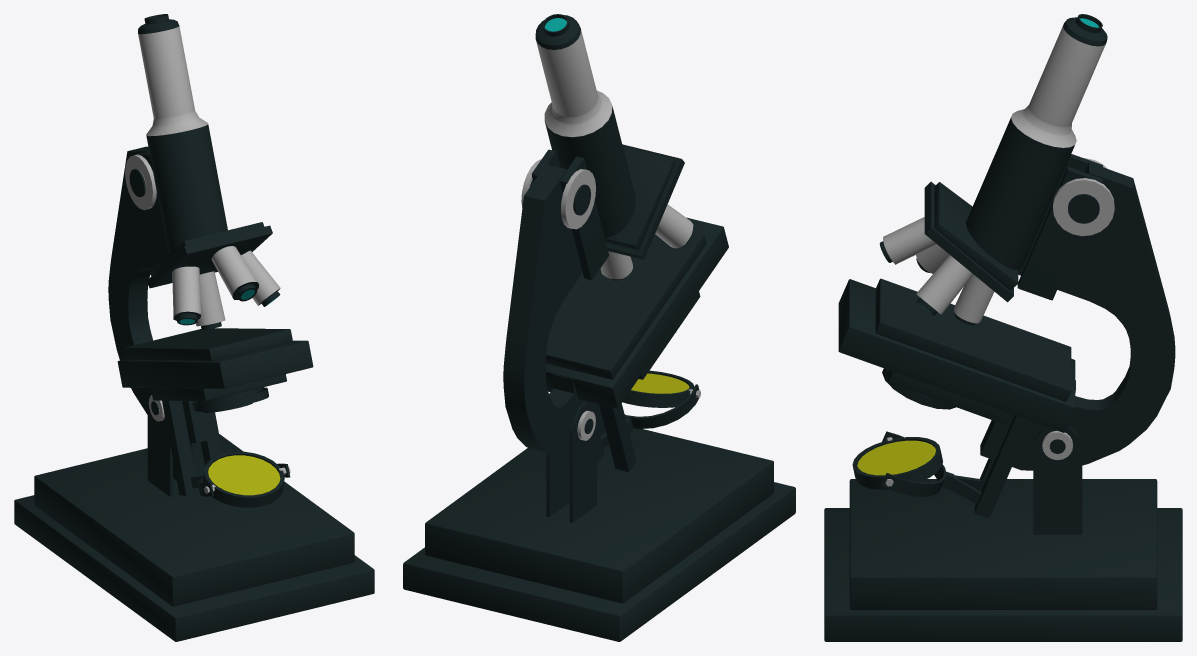
The model's file is simple_low_poly_microscope.glb.
3 views of the same model, side by side, from view 1: azimuth 30°, elevation 25°; view 2: azimuth 150°, elevation 25°; view 3: azimuth 270°, elevation 25° (orthographic). The views are drawn at different scales.
Parts seen in each view (by area): view 1: microscopi; view 2: microscopi; view 3: microscopi.
Boxes of the visible parts, bbox=[...] form: microscopi: bbox=[14, 14, 374, 641]; microscopi: bbox=[403, 14, 795, 641]; microscopi: bbox=[824, 14, 1182, 641].
Size of the model in its own units: 0.3219 by 0.7969 by 0.452.
